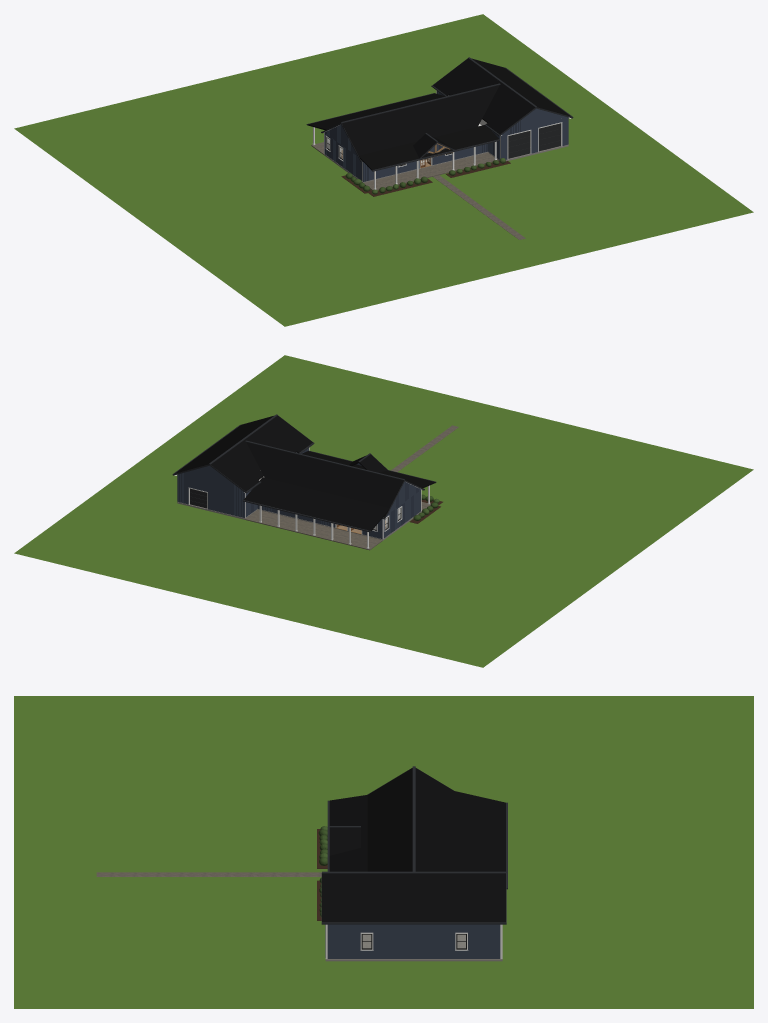
Rendered from house.glb.
The picture shows the model from 3 angles, top to bottom: view 1: azimuth 30°, elevation 25°; view 2: azimuth 150°, elevation 25°; view 3: azimuth 270°, elevation 25°; orthographic projection. The views are drawn at different scales.
Parts seen in each view (by area): view 1: LM_ground, LM_roof, LM_walls, LM_site, LM_fixtures; view 2: LM_ground, LM_roof, LM_walls, LM_site; view 3: LM_ground, LM_roof, LM_walls, LM_site.
Part boxes in pixels (x1,y1,x2,y2): LM_ground: (14, 14, 753, 326); LM_roof: (306, 57, 573, 171); LM_walls: (324, 90, 568, 181); LM_site: (311, 127, 568, 239); LM_fixtures: (326, 122, 562, 166); LM_ground: (14, 355, 753, 667); LM_roof: (172, 414, 436, 532); LM_walls: (177, 447, 421, 539); LM_site: (177, 425, 458, 550); LM_ground: (14, 696, 753, 1008); LM_roof: (321, 766, 507, 924); LM_walls: (325, 924, 502, 958); LM_site: (96, 826, 502, 961).
Bounding box in the file's own units: 64 × 6.5 × 64.
59 materials, 14 textured.
